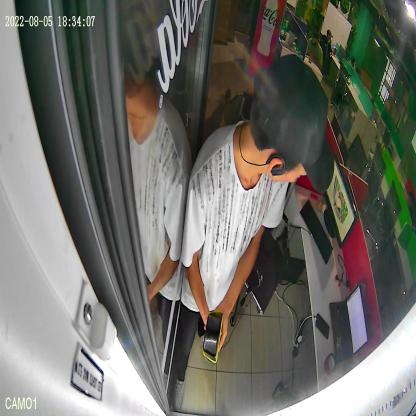yellow: (202, 310, 223, 364)
